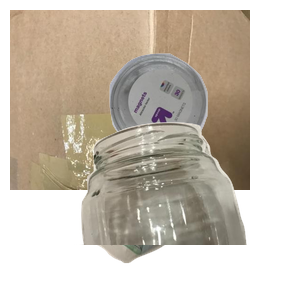cardboard: (10, 10, 250, 190)
glass: (74, 120, 300, 300)
plastic: (107, 51, 300, 199)
trash: (84, 133, 292, 300)
